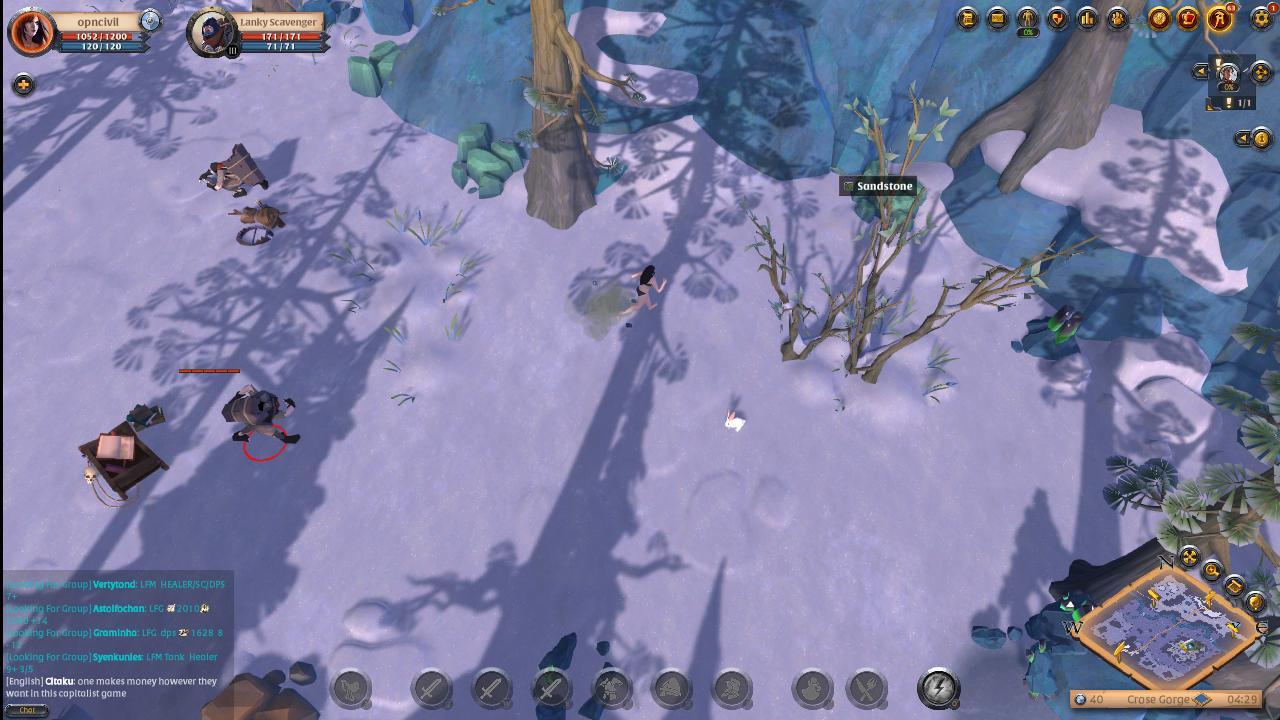mob: (220, 378, 307, 469), (196, 137, 272, 205)
sandstone: (451, 120, 526, 200), (346, 37, 415, 102)
tin_ore: (1018, 299, 1093, 365)
